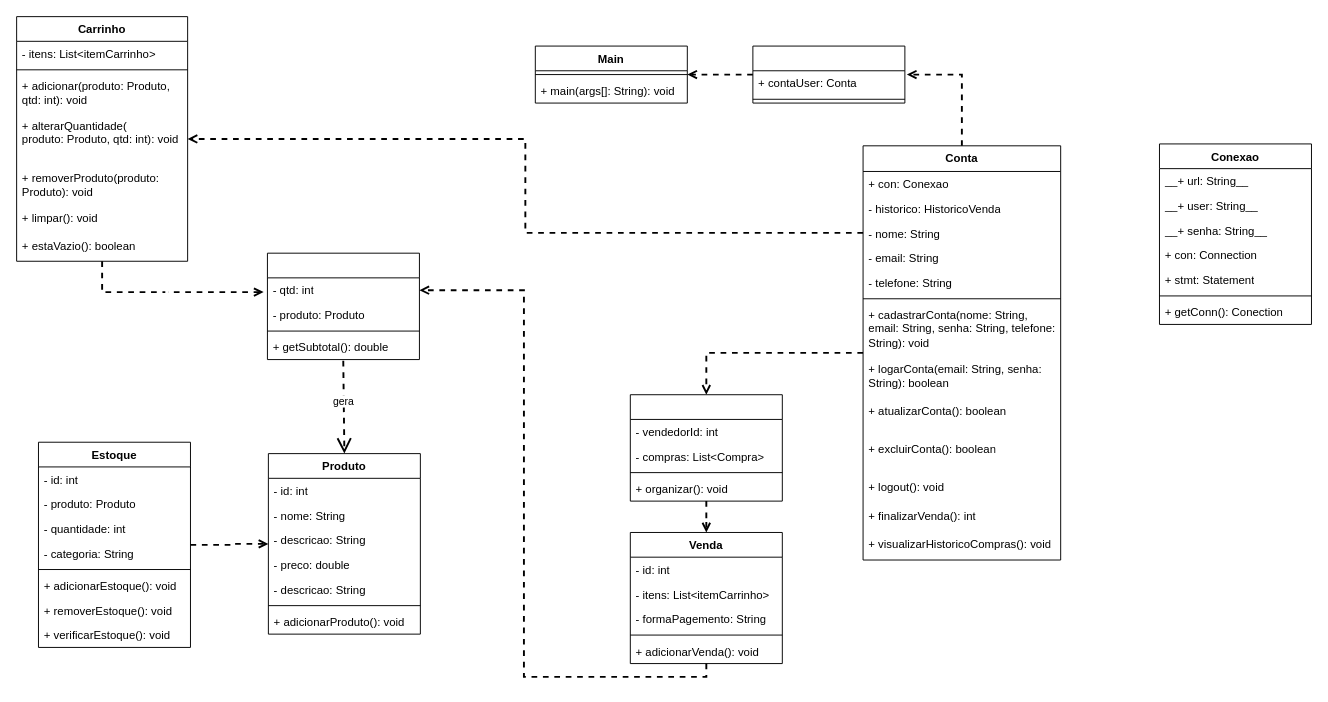
The diagram is 1328 pixels wide and 702 high, and some of its shapes have lost their labels. The box of each missing label's shape, as (x1, y1, x2, y2) in pixels:
HistoricoCompra: (629, 394, 782, 501)
ItemCarrinho: (266, 252, 419, 360)
TelaInicial: (752, 45, 905, 103)
